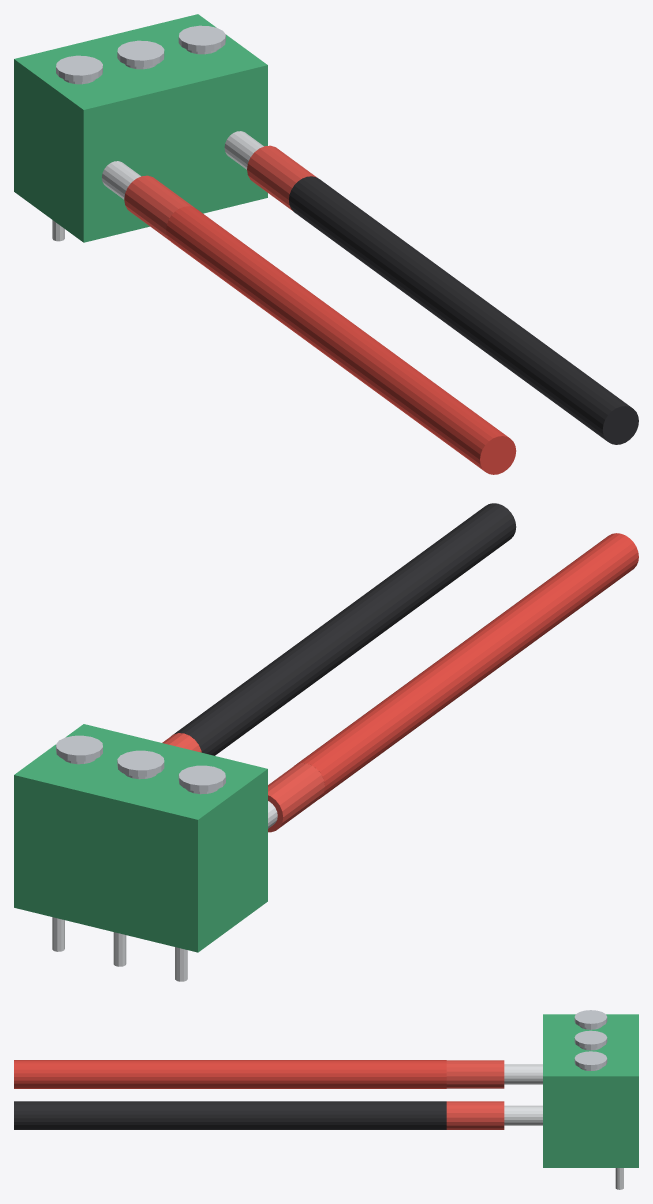
The model's file is AP_CONEXION_24V.glb.
The picture shows the model from 3 angles, top to bottom: view 1: azimuth 30°, elevation 25°; view 2: azimuth 150°, elevation 25°; view 3: azimuth 270°, elevation 25°; orthographic projection. The views are drawn at different scales.
Parts seen in each view (by area): view 1: borne_geometry_0, aislante_positivo, aislante_negativo, borne_geometry_1, collar_positivo, collar_negativo, puntera_positivo, puntera_negativo; view 2: borne_geometry_0, aislante_positivo, aislante_negativo, borne_geometry_1, collar_positivo, borne_geometry_3; view 3: borne_geometry_0, aislante_positivo, aislante_negativo, collar_positivo, collar_negativo, borne_geometry_1, puntera_positivo, puntera_negativo.
Boxes of the visible parts, x1,y1,x2,y2 form: borne_geometry_0: (14,14,267,242); aislante_positivo: (166,206,516,474); aislante_negativo: (289,176,638,444); borne_geometry_1: (56,25,225,84); collar_positivo: (124,175,194,240); collar_negativo: (247,145,317,210); puntera_positivo: (101,161,140,199); puntera_negativo: (224,131,263,169); borne_geometry_0: (14,724,267,952); aislante_positivo: (294,533,638,798); aislante_negativo: (173,503,516,755); borne_geometry_1: (56,735,225,794); collar_positivo: (268,763,324,832); borne_geometry_3: (52,917,187,981); borne_geometry_0: (543,1014,638,1167); aislante_positivo: (14,1060,446,1088); aislante_negativo: (14,1101,446,1129); collar_positivo: (446,1060,504,1088); collar_negativo: (446,1101,504,1129); borne_geometry_1: (574,1010,607,1070); puntera_positivo: (504,1064,542,1084); puntera_negativo: (504,1105,542,1125).
Bounding box in the file's own units: 0.0152 × 0.0149 × 0.065.
